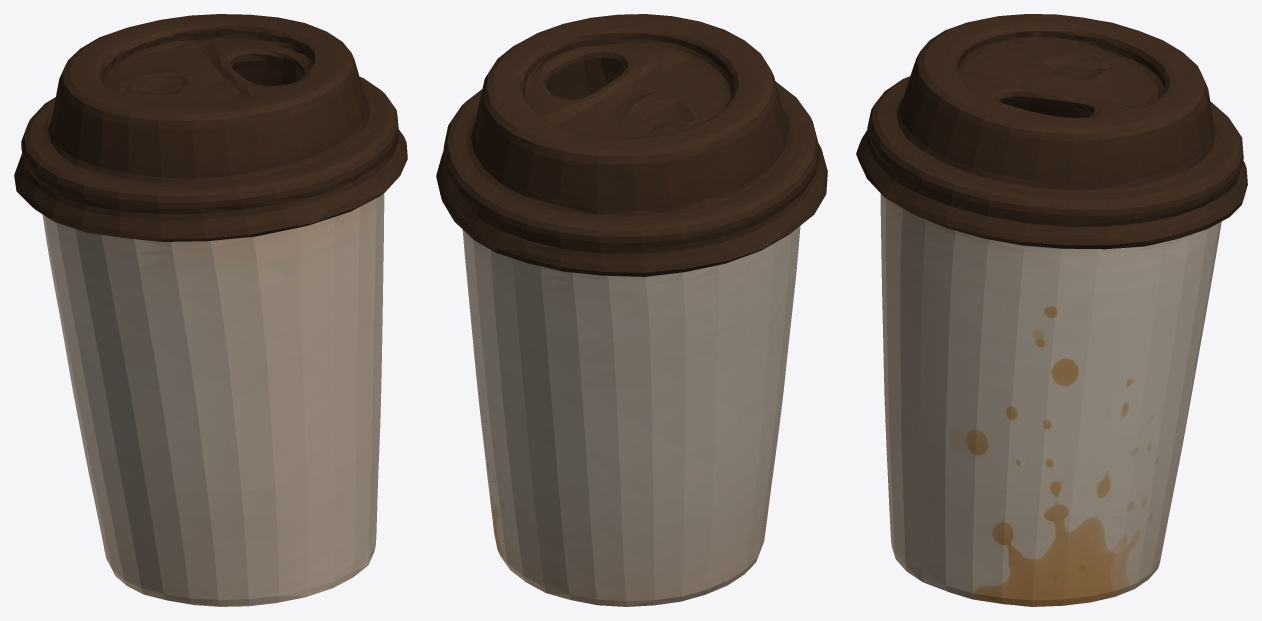
File: tripo_convert_e0767410-e8e4-42f6-af35-995c3fdcbcd8.obj
3 renders of one model, left to right at view 1: azimuth 30°, elevation 25°; view 2: azimuth 150°, elevation 25°; view 3: azimuth 270°, elevation 25°, orthographic.
Parts seen in each view (by area): view 1: tripo_node_e0767410-e8e4-42f6-af35-995c3fdcbcd8; view 2: tripo_node_e0767410-e8e4-42f6-af35-995c3fdcbcd8; view 3: tripo_node_e0767410-e8e4-42f6-af35-995c3fdcbcd8.
Boxes of the visible parts, box(x1,y1,x2,y2) form: tripo_node_e0767410-e8e4-42f6-af35-995c3fdcbcd8: box(14, 14, 407, 606); tripo_node_e0767410-e8e4-42f6-af35-995c3fdcbcd8: box(436, 14, 827, 606); tripo_node_e0767410-e8e4-42f6-af35-995c3fdcbcd8: box(856, 14, 1247, 606).
Bounding box in the file's own units: 0.6974 × 0.9784 × 0.6989.
1 material, 1 textured.
